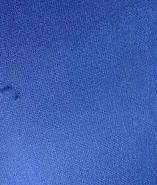knot: (0, 81, 23, 103)
